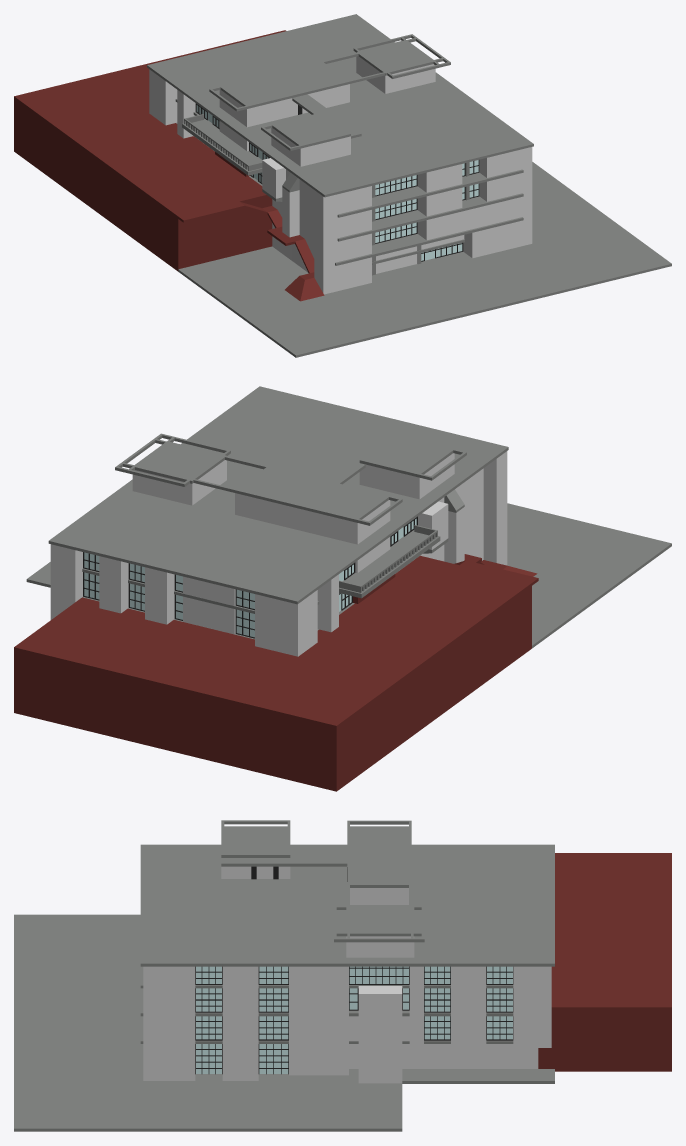
The model's file is Biblioteca.glb.
3 renders of one model, top to bottom at view 1: azimuth 30°, elevation 25°; view 2: azimuth 150°, elevation 25°; view 3: azimuth 270°, elevation 25°, orthographic. The views are drawn at different scales.
Visible parts, largest first — view 1: Cube.043, Cube.382, Cube.353, Cube.342, Cube.367, Cube.374, Cube.044, Cube.340, Cube.350, Cube.341, Cube.376, Cube.375 (+17 smaller); view 2: Cube.382, Cube.353, Cube.043, Cube.374, Cube.350, Cube.332, Cube.342, Cube.376, Cube.375, Cube.346, Cube.335, Cube.352 (+13 smaller); view 3: Cube.043, Cube.353, Cube.382, Cube.347, Cube.338, Cube.339, Cube.374, Cube.373, Cube.366, Cube.367, Cube.335, Cube.336 (+22 smaller).
Boxes of the visible parts, x1,y1,x2,y2 form: Cube.043: [178, 162, 671, 357]; Cube.382: [14, 30, 285, 271]; Cube.353: [147, 14, 533, 197]; Cube.342: [314, 186, 371, 294]; Cube.367: [417, 191, 532, 258]; Cube.374: [220, 61, 349, 108]; Cube.044: [178, 201, 324, 301]; Cube.340: [479, 147, 532, 201]; Cube.350: [219, 84, 349, 127]; Cube.341: [417, 164, 462, 216]; Cube.376: [272, 112, 350, 148]; Cube.375: [356, 40, 435, 75]; Cube.382: [14, 555, 531, 791]; Cube.353: [48, 386, 508, 604]; Cube.043: [26, 503, 671, 648]; Cube.374: [235, 466, 389, 522]; Cube.350: [235, 493, 390, 544]; Cube.332: [255, 590, 317, 656]; Cube.342: [483, 451, 507, 565]; Cube.376: [359, 434, 454, 477]; Cube.375: [133, 441, 226, 483]; Cube.346: [183, 576, 235, 634]; Cube.335: [50, 544, 82, 619]; Cube.352: [359, 453, 454, 499]; Cube.043: [14, 914, 402, 1131]; Cube.353: [140, 844, 554, 966]; Cube.382: [538, 853, 671, 1071]; Cube.347: [289, 966, 348, 1075]; Cube.338: [358, 986, 402, 1083]; Cube.339: [222, 966, 258, 1080]; Cube.374: [347, 826, 411, 887]; Cube.373: [349, 1044, 538, 1068]; Cube.366: [140, 1044, 554, 1083]; Cube.367: [143, 1019, 195, 1080]; Cube.335: [513, 966, 551, 1047]; Cube.336: [451, 966, 486, 1047].
Bounding box in the file's own units: 74.43 × 23.4 × 96.65.
